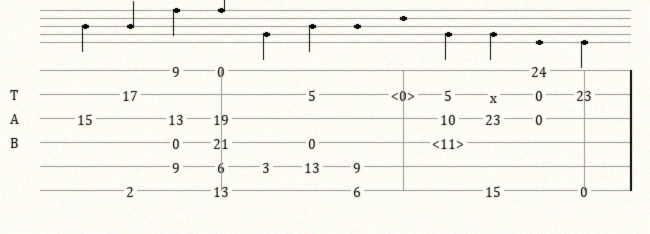0: (172, 135, 184, 149), (217, 63, 229, 77), (308, 135, 320, 149), (535, 111, 547, 125), (535, 87, 547, 101), (580, 183, 592, 197)
10: (440, 111, 460, 125)
13: (168, 111, 188, 125), (213, 183, 233, 197), (304, 159, 324, 173)
15: (77, 111, 97, 126), (485, 183, 505, 198)
17: (122, 87, 142, 101)
19: (213, 111, 233, 125)
2: (126, 183, 138, 197)
21: (213, 135, 233, 149)
23: (485, 111, 505, 125), (576, 87, 596, 101)
24: (531, 63, 551, 77)
3: (262, 159, 274, 173)
5: (308, 87, 320, 102), (444, 87, 456, 102)
6: (217, 159, 229, 173), (353, 183, 365, 197)
9: (172, 63, 184, 77), (172, 159, 184, 173), (353, 159, 365, 173)
harmonic: (432, 135, 468, 149), (391, 87, 419, 101)
x: (490, 89, 501, 100)
